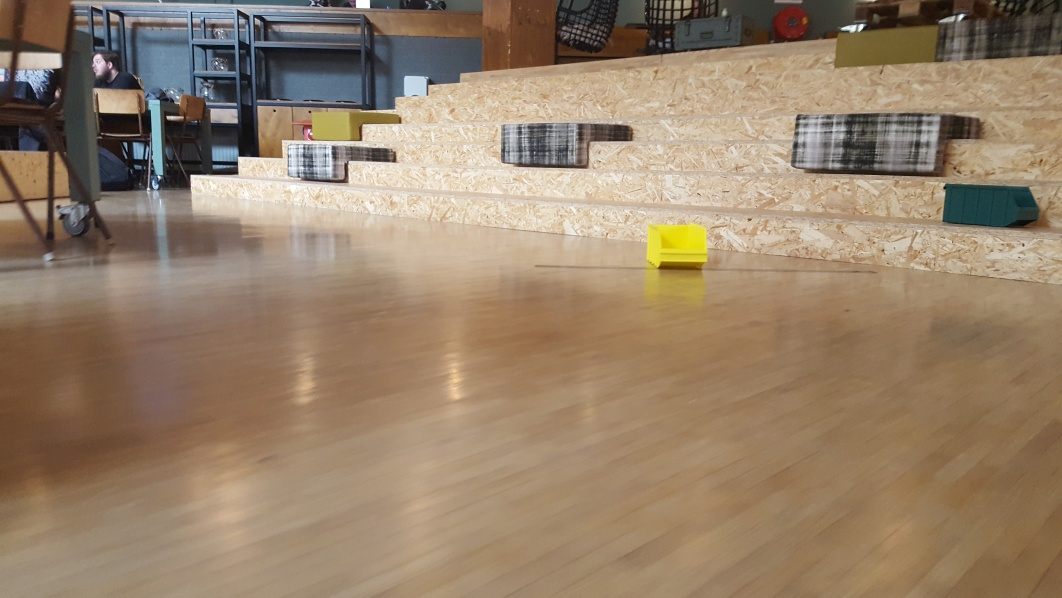tray: (937, 181, 1045, 232), (644, 221, 711, 271)
